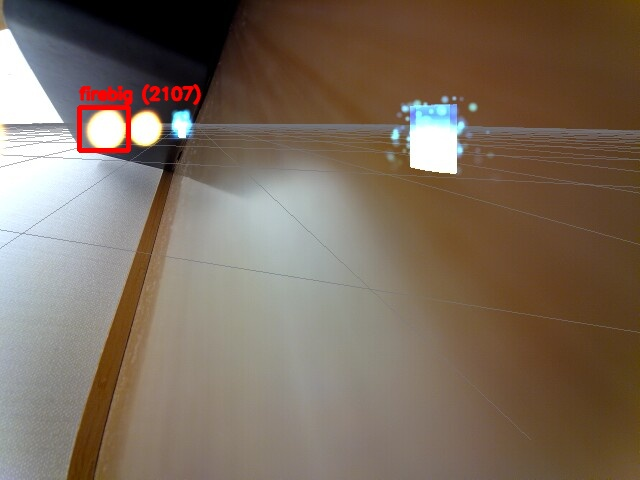firebig: (79, 107, 128, 150)
